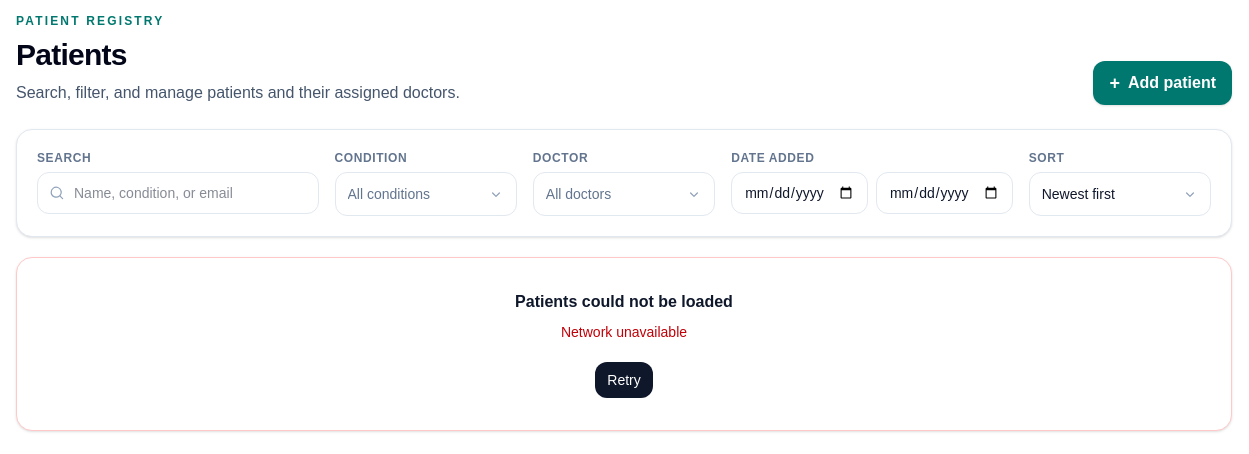
Test: PatientsManager list › shows an error state and retries
This screenshot has width=1249, height=454.
Expected: the message reads "Network unavailable", left=561, top=324, right=687, bottom=340
What coordinates should you click on to do the following:
click the button "Retry"
I would click on:
 (624, 380)
Its box is left=595, top=362, right=653, bottom=398.
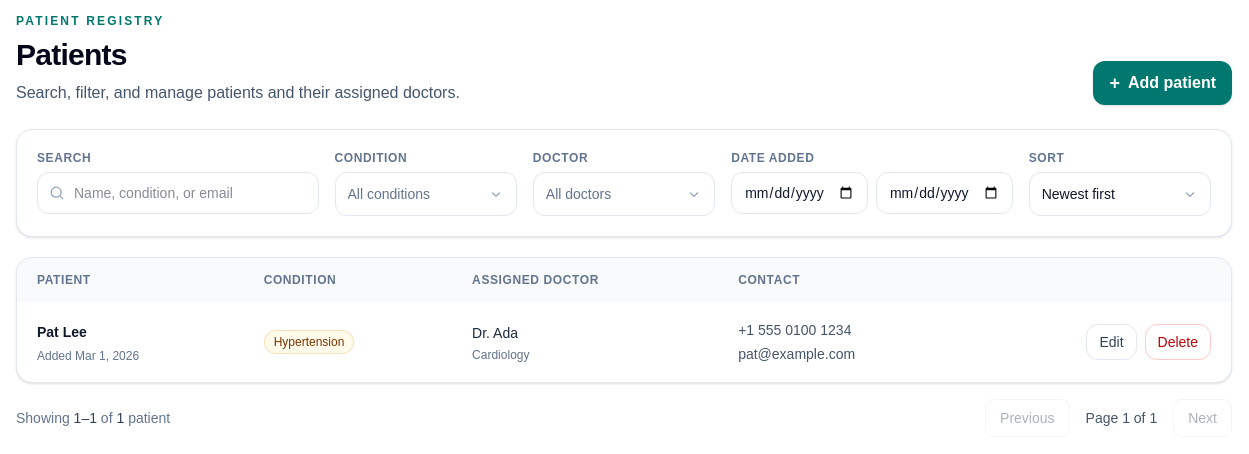
Expected: the link "Pat Lee" is shown, left=37, top=320, right=87, bottom=344
